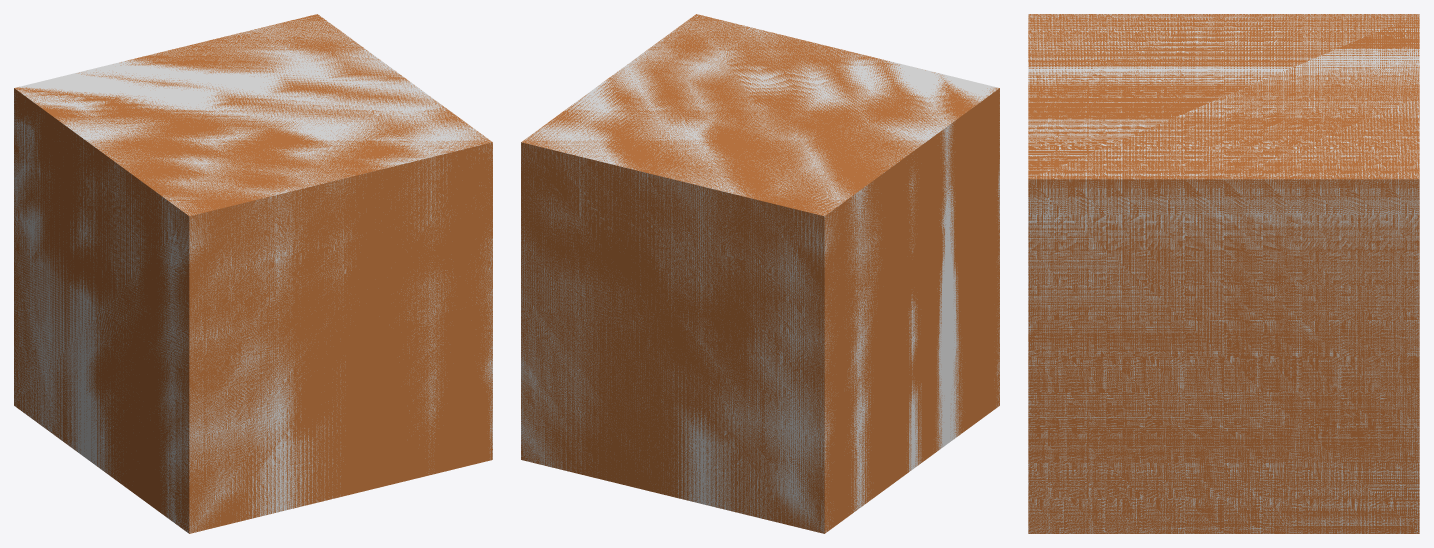
Rendered from bad_proxy_heavy.glb.
3 renders of one model, left to right at view 1: azimuth 30°, elevation 25°; view 2: azimuth 150°, elevation 25°; view 3: azimuth 270°, elevation 25°, orthographic. The views are drawn at different scales.
Visible parts, largest first — view 1: prop_crate, prop_crate_col; view 2: prop_crate, prop_crate_col; view 3: prop_crate, prop_crate_col.
Boxes of the visible parts, left/top/right/bottom form: prop_crate: left=14, top=14, right=492, bottom=533; prop_crate_col: left=14, top=14, right=492, bottom=533; prop_crate: left=521, top=14, right=999, bottom=533; prop_crate_col: left=521, top=14, right=999, bottom=533; prop_crate: left=1028, top=14, right=1419, bottom=533; prop_crate_col: left=1028, top=14, right=1419, bottom=533.
Size of the model in its own units: 1 by 1 by 1.
1 material, 1 textured.
